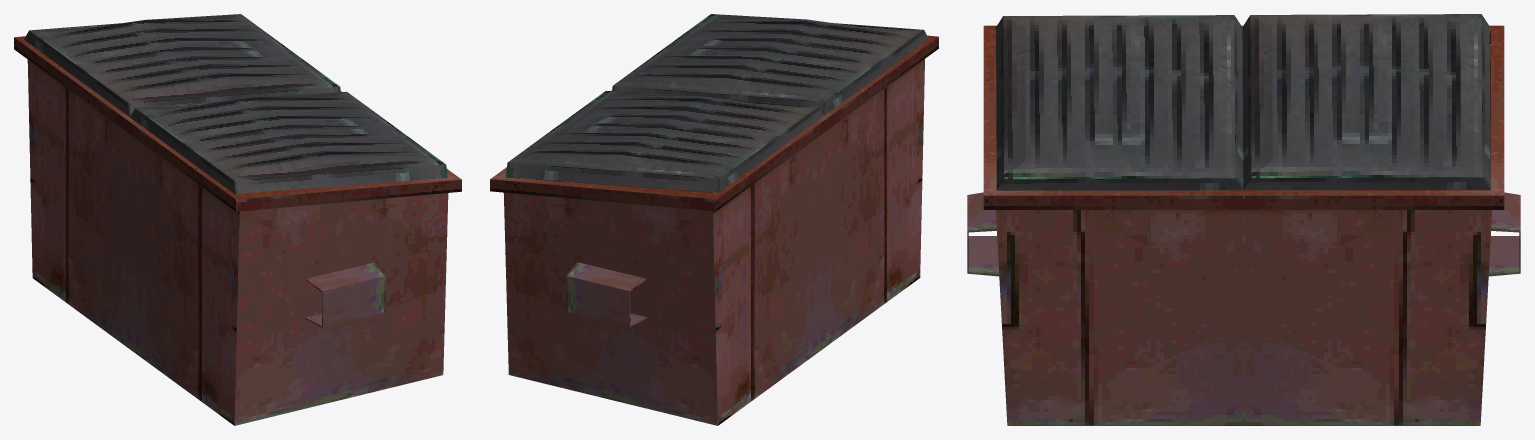
Rendered from dumpster_diagonal_closed_red.glb.
3 renders of one model, left to right at view 1: azimuth 30°, elevation 25°; view 2: azimuth 150°, elevation 25°; view 3: azimuth 270°, elevation 25°, orthographic. The views are drawn at different scales.
Parts seen in each view (by area): view 1: dumpster_diagonal_closed_red; view 2: dumpster_diagonal_closed_red; view 3: dumpster_diagonal_closed_red.
Boxes of the visible parts, left/top/right/bottom form: dumpster_diagonal_closed_red: left=14, top=14, right=461, bottom=425; dumpster_diagonal_closed_red: left=490, top=14, right=938, bottom=425; dumpster_diagonal_closed_red: left=967, top=14, right=1520, bottom=425.
Bounding box in the file's own units: 2.03 × 2.13 × 3.67.
1 material, 1 textured.
